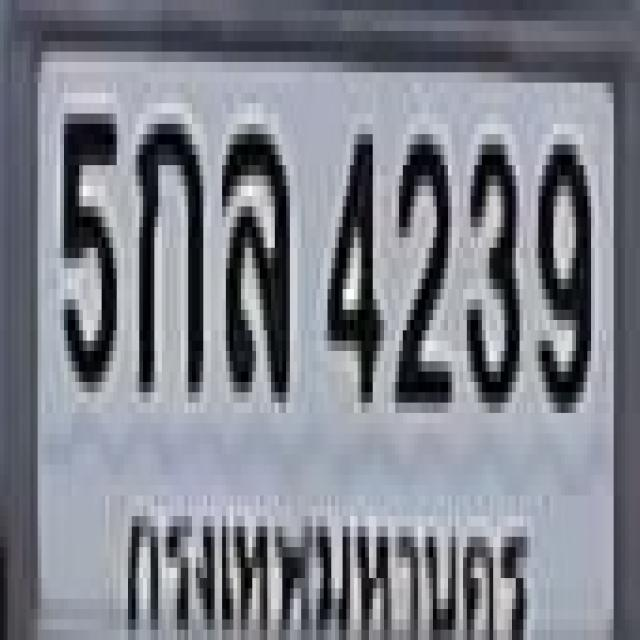2: (392, 124, 448, 392)
3: (463, 124, 516, 402)
4: (324, 124, 376, 392)
5: (60, 103, 113, 382)
9: (535, 134, 587, 403)
A01: (132, 113, 200, 382)
A36: (218, 113, 286, 382)
BKK: (111, 474, 535, 640)
